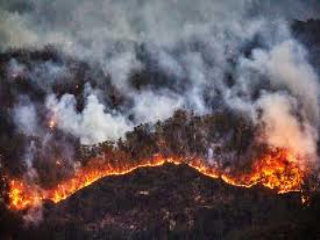fire: (128, 147, 314, 200), (10, 164, 130, 207)
smoke: (123, 45, 242, 114), (245, 34, 318, 145), (48, 89, 127, 143), (7, 99, 42, 141)
